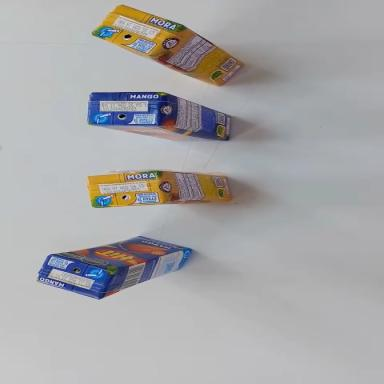HIT-MANGO: (32, 217, 198, 314), (86, 85, 234, 146)
HIT-MORA: (92, 0, 247, 98), (87, 167, 232, 208)
cara_F: (51, 219, 190, 286), (90, 111, 229, 155)
